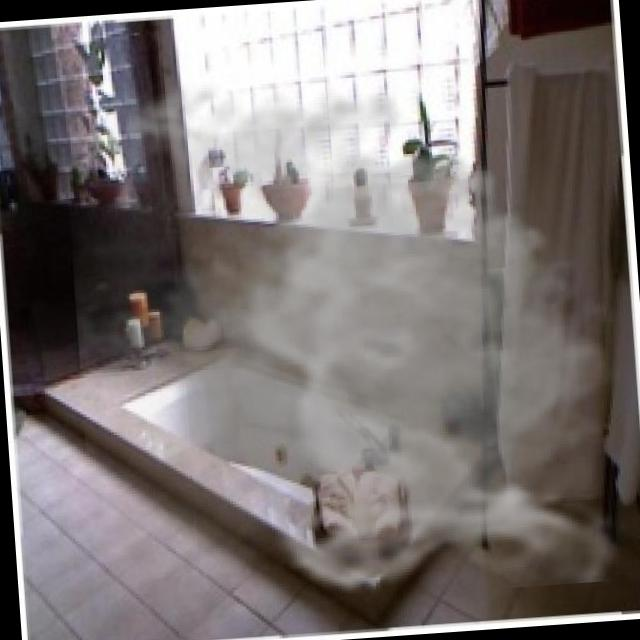Smoke: (59, 39, 640, 616)
